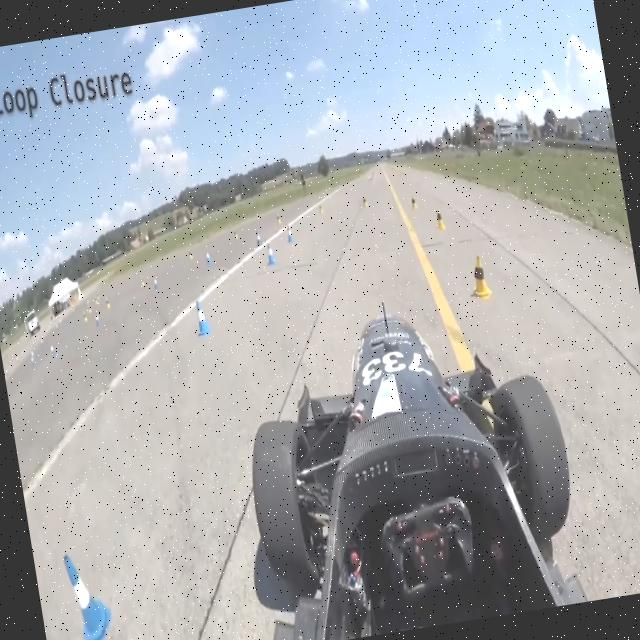blue_cone: (63, 549, 117, 640), (193, 298, 213, 336), (264, 242, 277, 266), (284, 221, 294, 242)
yellow_cone: (466, 252, 494, 302), (433, 206, 447, 231)
